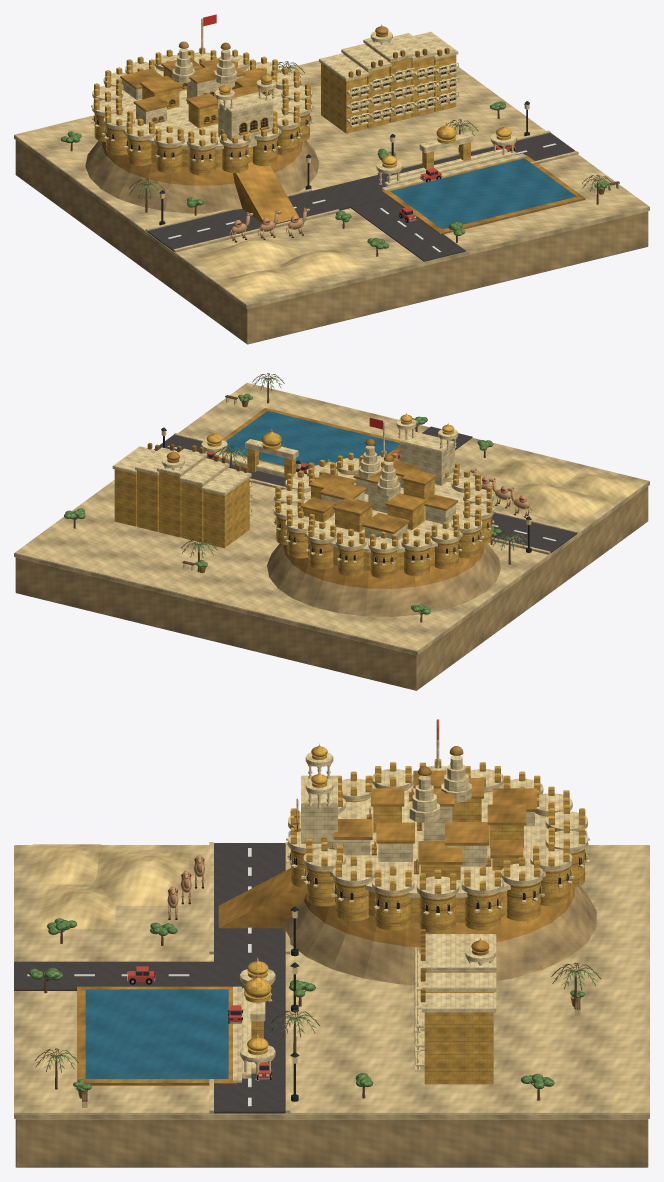
File: jaisalmer_tile.glb
3 renders of one model, top to bottom at view 1: azimuth 30°, elevation 25°; view 2: azimuth 150°, elevation 25°; view 3: azimuth 270°, elevation 25°, orthographic. The views are drawn at different scales.
Visible parts, largest first — view 1: jaisalmer_tile; view 2: jaisalmer_tile; view 3: jaisalmer_tile.
Part boxes in pixels (x1,y1,x2,y2): jaisalmer_tile: [14, 14, 649, 344]; jaisalmer_tile: [14, 373, 649, 690]; jaisalmer_tile: [14, 719, 649, 1167].
Size of the model in its own units: 12 by 5.31 by 12.
Materials: 25 (11 with a texture image).
